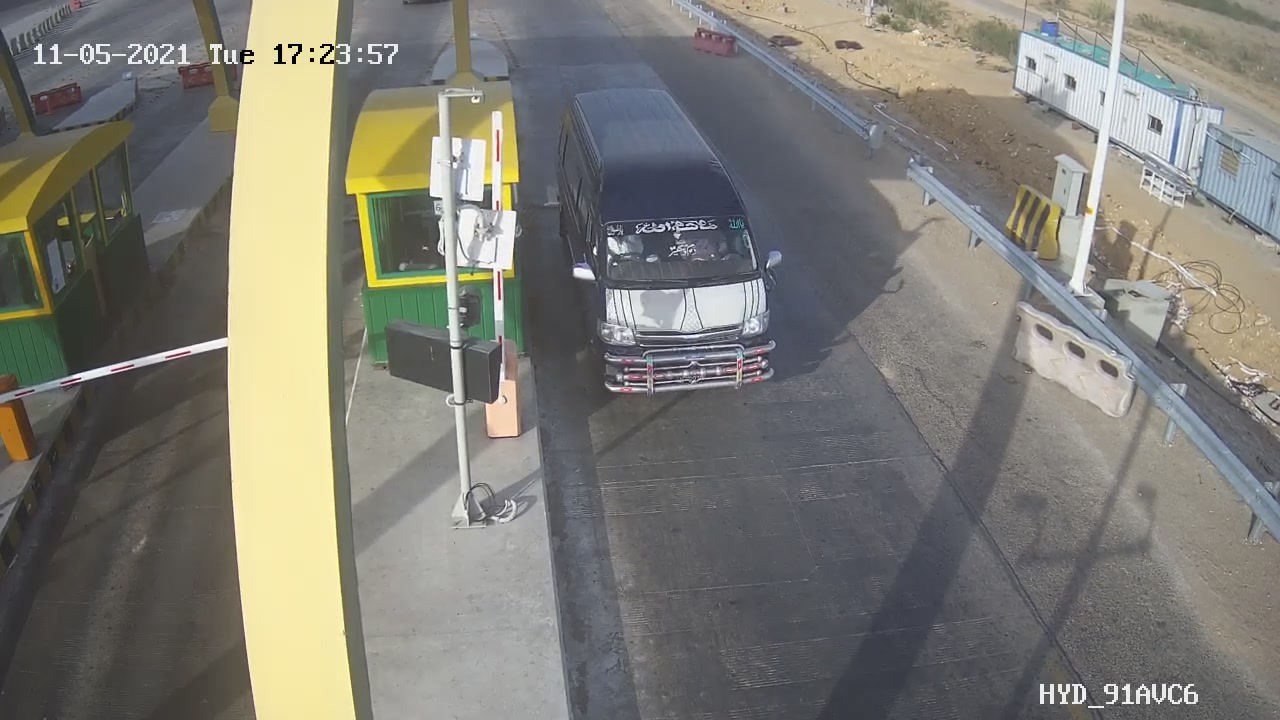F2: (549, 62, 793, 411)
